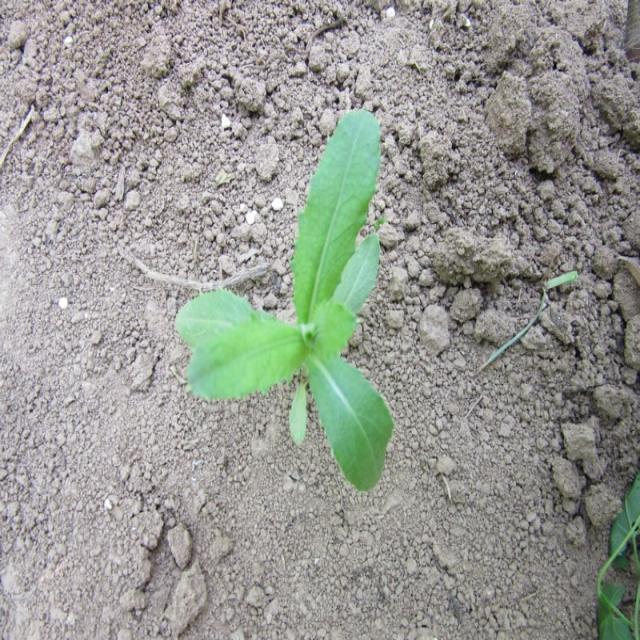field_thistle: (134, 89, 428, 514)
